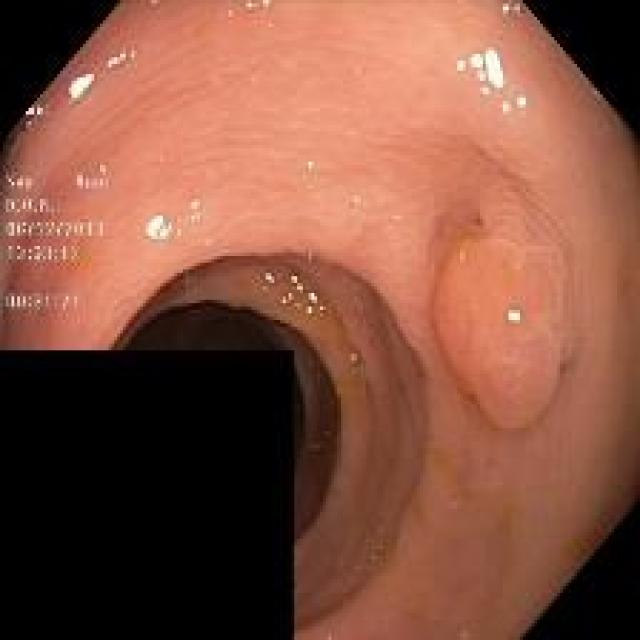Polyps: (434, 172, 574, 431)
